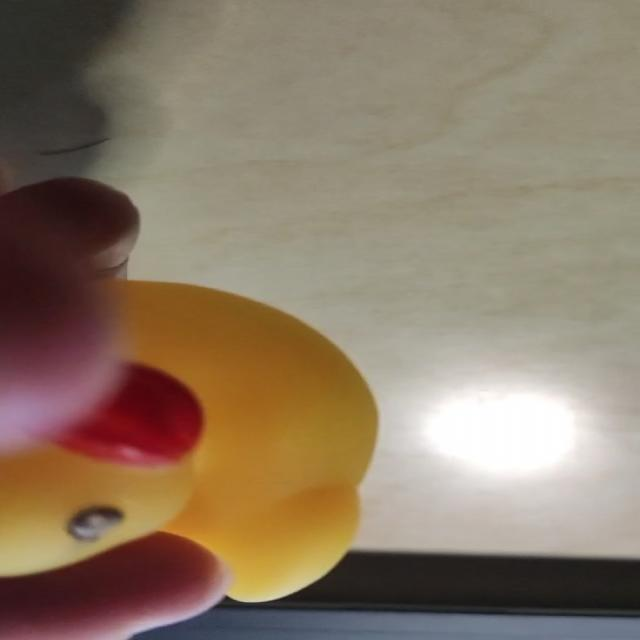rubber-duck: (0, 281, 375, 599)
